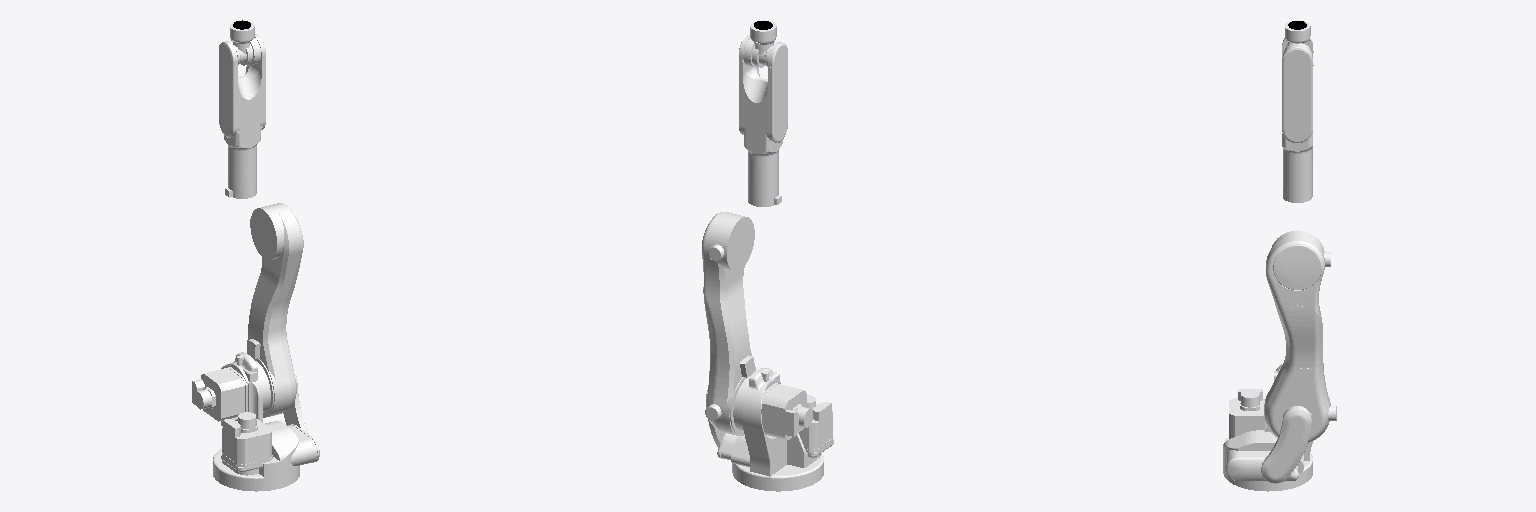
The robot description file, URDF, robot "khi_rs030n":
<?xml version="1.0" ?>
<!-- =================================================================================== -->
<!-- |    This document was autogenerated by xacro from [local-path]/shared/catkin_ws/src/khi_robot/khi_rs_description/urdf/rs030n.urdf.xacro | -->
<!-- |    EDITING THIS FILE BY HAND IS NOT RECOMMENDED                                 | -->
<!-- =================================================================================== -->
<robot name="khi_rs030n">
    <transmission name="$join1_trans">
        <type>transmission_interface/SimpleTransmission</type>
        <actuator name="joint1_motor">
            <hardwareInterface>hardware_interface/PositionJointInterface</hardwareInterface>
            <mechanicalReduction>1</mechanicalReduction>
        </actuator>
        <joint name="joint1">
            <hardwareInterface>hardware_interface/PositionJointInterface</hardwareInterface>
        </joint>
    </transmission>
    <transmission name="$join2_trans">
        <type>transmission_interface/SimpleTransmission</type>
        <actuator name="joint2_motor">
            <hardwareInterface>hardware_interface/PositionJointInterface</hardwareInterface>
            <mechanicalReduction>1</mechanicalReduction>
        </actuator>
        <joint name="joint2">
            <hardwareInterface>hardware_interface/PositionJointInterface</hardwareInterface>
        </joint>
    </transmission>
    <transmission name="$join3_trans">
        <type>transmission_interface/SimpleTransmission</type>
        <actuator name="joint3_motor">
            <hardwareInterface>hardware_interface/PositionJointInterface</hardwareInterface>
            <mechanicalReduction>1</mechanicalReduction>
        </actuator>
        <joint name="joint3">
            <hardwareInterface>hardware_interface/PositionJointInterface</hardwareInterface>
        </joint>
    </transmission>
    <transmission name="$join4_trans">
        <type>transmission_interface/SimpleTransmission</type>
        <actuator name="joint4_motor">
            <hardwareInterface>hardware_interface/PositionJointInterface</hardwareInterface>
            <mechanicalReduction>1</mechanicalReduction>
        </actuator>
        <joint name="joint4">
            <hardwareInterface>hardware_interface/PositionJointInterface</hardwareInterface>
        </joint>
    </transmission>
    <transmission name="$join5_trans">
        <type>transmission_interface/SimpleTransmission</type>
        <actuator name="joint5_motor">
            <hardwareInterface>hardware_interface/PositionJointInterface</hardwareInterface>
            <mechanicalReduction>1</mechanicalReduction>
        </actuator>
        <joint name="joint5">
            <hardwareInterface>hardware_interface/PositionJointInterface</hardwareInterface>
        </joint>
    </transmission>
    <transmission name="$join6_trans">
        <type>transmission_interface/SimpleTransmission</type>
        <actuator name="joint6_motor">
            <hardwareInterface>hardware_interface/PositionJointInterface</hardwareInterface>
            <mechanicalReduction>1</mechanicalReduction>
        </actuator>
        <joint name="joint6">
            <hardwareInterface>hardware_interface/PositionJointInterface</hardwareInterface>
        </joint>
    </transmission>
    <!-- gazebo plugin -->
    <gazebo>
        <plugin filename="libgazebo_ros_control.so" name="gazebo_ros_control">
            <robotNamespace>/</robotNamespace>
        </plugin>
        <!--
    <plugin name="gazebo_ros_power_monitor_controller" filename="libgazebo_ros_power_monitor.so">
      <alwaysOn>true</alwaysOn>
      <updateRate>1.0</updateRate>
      <timeout>5</timeout>
      <powerStateTopic>power_state</powerStateTopic>
      <powerStateRate>10.0</powerStateRate>
      <fullChargeCapacity>87.78</fullChargeCapacity>     
      <dischargeRate>-474</dischargeRate>
      <chargeRate>525</chargeRate>
      <dischargeVoltage>15.52</dischargeVoltage>
      <chargeVoltage>16.41</chargeVoltage>
    </plugin>
-->
    </gazebo>
    <!-- link rviz colors -->
    <material name="White">
        <color rgba="1 1 1 1" />
    </material>
    <material name="Black">
        <color rgba="0 0 0 1" />
    </material>
    <!-- rs030n start -->
    <!-- Link 0 -->
    <link name="base_link">
        <visual>
            <geometry>
                <mesh filename="package://khi_rs_description/meshes/RS030N_J0.stl" />
            </geometry>
            <material name="White" />
            <origin rpy="0 0 0" xyz="0 0 0" />
        </visual>
        <collision>
            <geometry>
                <mesh filename="package://khi_rs_description/meshes/RS030N_J0.stl" />
            </geometry>
            <material name="White" />
            <origin rpy="0 0 0" xyz="0 0 0" />
        </collision>
        <inertial>
            <mass value="177.752" />
            <inertia ixx="1.0" ixy="0.0" ixz="0.0" iyy="1.0" iyz="0.0" izz="1.0" />
            <origin xyz="0 0 0" rpy="0 0 0" />
        </inertial>
    </link>
    <!-- Link 1 -->
    <joint name="joint1" type="revolute">
        <axis rpy="0 0 0" xyz="0 0 -1" />
        <limit effort="1000.0" lower="-3.141592653589793" upper="3.141592653589793" velocity="3.141592653589793" />
        <origin rpy="0 0 0" xyz="0 0 0.68" />
        <parent link="base_link" />
        <child link="link1" />
        <dynamics damping="0.0" friction="0.0" />
    </joint>
    <link name="link1">
        <visual>
            <geometry>
                <mesh filename="package://khi_rs_description/meshes/RS030N_J1.stl" />
            </geometry>
            <material name="White" />
            <origin rpy="0 0 0" xyz="0 0 0" />
        </visual>
        <collision>
            <geometry>
                <mesh filename="package://khi_rs_description/meshes/RS030N_J1.stl" />
            </geometry>
            <material name="White" />
            <origin rpy="0 0 0" xyz="0 0 0" />
        </collision>
        <inertial>
            <mass value="216.15" />
            <inertia ixx="1.0" ixy="0.0" ixz="0.0" iyy="1.0" iyz="0.0" izz="1.0" />
            <origin xyz="0 0 0" rpy="0 0 0" />
        </inertial>
    </link>
    <!-- Link 2 -->
    <joint name="joint2" type="revolute">
        <axis rpy="0 0 0" xyz="0 0 1" />
        <limit effort="1000.0" lower="-1.8325957145940461" upper="2.443460952792061" velocity="3.141592653589793" />
        <origin rpy="0 -1.5707963267948966 0" xyz="0 0.15 0" />
        <parent link="link1" />
        <child link="link2" />
        <dynamics damping="0.0" friction="0.0" />
    </joint>
    <link name="link2">
        <visual>
            <geometry>
                <mesh filename="package://khi_rs_description/meshes/RS030N_J2.stl" />
            </geometry>
            <material name="White" />
            <origin rpy="0 1.5707963267948966 0" xyz="0 0 0" />
        </visual>
        <collision>
            <geometry>
                <mesh filename="package://khi_rs_description/meshes/RS030N_J2.stl" />
            </geometry>
            <material name="White" />
            <origin rpy="0 1.5707963267948966 0" xyz="0 0 0" />
        </collision>
        <inertial>
            <mass value="70.847" />
            <inertia ixx="1.0" ixy="0.0" ixz="0.0" iyy="1.0" iyz="0.0" izz="1.0" />
            <origin xyz="0 0 0" rpy="0 0 0" />
        </inertial>
    </link>
    <!-- Link 3 -->
    <joint name="joint3" type="revolute">
        <axis rpy="0 0 0" xyz="0 0 -1" />
        <limit effort="1000.0" lower="-2.705260340591211" upper="2.356194490192345" velocity="3.2288591161895095" />
        <origin rpy="0 0 0" xyz="0.87 0 0" />
        <parent link="link2" />
        <child link="link3" />
        <dynamics damping="0.0" friction="0.0" />
    </joint>
    <link name="link3">
        <visual>
            <geometry>
                <mesh filename="package://khi_rs_description/meshes/RS030N_J3.stl" />
            </geometry>
            <material name="White" />
            <origin rpy="0 1.5707963267948966 0" xyz="0 0 0" />
        </visual>
        <collision>
            <geometry>
                <mesh filename="package://khi_rs_description/meshes/RS030N_J3.stl" />
            </geometry>
            <material name="White" />
            <origin rpy="0 1.5707963267948966 0" xyz="0 0 0" />
        </collision>
        <inertial>
            <mass value="51.71" />
            <inertia ixx="1.0" ixy="0.0" ixz="0.0" iyy="1.0" iyz="0.0" izz="1.0" />
            <origin xyz="0 0 0" rpy="0 0 0" />
        </inertial>
    </link>
    <!-- Link 4 -->
    <joint name="joint4" type="revolute">
        <axis rpy="0 0 0" xyz="0 0 1" />
        <limit effort="1000.0" lower="-6.283185307179586" upper="6.283185307179586" velocity="4.537856055185257" />
        <origin rpy="0 1.5707963267948966 0" xyz="0.267 0 0" />
        <parent link="link3" />
        <child link="link4" />
        <dynamics damping="0.0" friction="0.0" />
    </joint>
    <link name="link4">
        <visual>
            <geometry>
                <mesh filename="package://khi_rs_description/meshes/RS030N_J4.stl" />
            </geometry>
            <material name="White" />
            <origin rpy="0 0 0" xyz="0 0 0.813" />
        </visual>
        <collision>
            <geometry>
                <mesh filename="package://khi_rs_description/meshes/RS030N_J4.stl" />
            </geometry>
            <material name="White" />
            <origin rpy="0 0 0" xyz="0 0 0.813" />
        </collision>
        <inertial>
            <mass value="31.675" />
            <inertia ixx="1.0" ixy="0.0" ixz="0.0" iyy="1.0" iyz="0.0" izz="1.0" />
            <origin xyz="0 0 0" rpy="0 0 0" />
        </inertial>
    </link>
    <!-- Link 5 -->
    <joint name="joint5" type="revolute">
        <axis rpy="0 0 0" xyz="0 0 -1" />
        <limit effort="1000.0" lower="-2.530727415391778" upper="2.530727415391778" velocity="4.537856055185257" />
        <origin rpy="0 -1.5707963267948966 0" xyz="0 0 0.813" />
        <parent link="link4" />
        <child link="link5" />
        <dynamics damping="0.0" friction="0.0" />
    </joint>
    <link name="link5">
        <visual>
            <geometry>
                <mesh filename="package://khi_rs_description/meshes/RS030N_J5.stl" />
            </geometry>
            <material name="White" />
            <origin rpy="0 1.5707963267948966 0" xyz="0 0 0" />
        </visual>
        <collision>
            <geometry>
                <mesh filename="package://khi_rs_description/meshes/RS030N_J5.stl" />
            </geometry>
            <material name="White" />
            <origin rpy="0 1.5707963267948966 0" xyz="0 0 0" />
        </collision>
        <inertial>
            <mass value="6.866" />
            <inertia ixx="1.0" ixy="0.0" ixz="0.0" iyy="1.0" iyz="0.0" izz="1.0" />
            <origin xyz="0 0 0" rpy="0 0 0" />
        </inertial>
    </link>
    <!-- Link 6 -->
    <joint name="joint6" type="revolute">
        <axis rpy="0 0 0" xyz="0 0 1" />
        <limit effort="1000.0" lower="-6.283185307179586" upper="6.283185307179586" velocity="6.283185307179586" />
        <origin rpy="0 1.5707963267948966 0" xyz="0.165 0 0" />
        <parent link="link5" />
        <child link="link6" />
        <dynamics damping="0.0" friction="0.0" />
    </joint>
    <link name="link6">
        <visual>
            <geometry>
                <mesh filename="package://khi_rs_description/meshes/RS030N_J6.stl" />
            </geometry>
            <material name="Black" />
            <origin rpy="0 0 0" xyz="0 0 0" />
        </visual>
        <collision>
            <geometry>
                <mesh filename="package://khi_rs_description/meshes/RS030N_J6.stl" />
            </geometry>
            <material name="Black" />
            <origin rpy="0 0 0" xyz="0 0 0" />
        </collision>
        <inertial>
            <mass value="0.0001" />
            <inertia ixx="1.0" ixy="0.0" ixz="0.0" iyy="1.0" iyz="0.0" izz="1.0" />
            <origin xyz="0 0 0" rpy="0 0 0" />
        </inertial>
    </link>
    <!-- Fix rs030n to world -->
    <link name="world" />
    <joint name="world2base" type="fixed">
        <parent link="world" />
        <child link="base_link" />
        <origin rpy="0 0 0" xyz="0 0 0" />
    </joint>
</robot>

--- What the picture shows (computed from the rendered views, not written in the file) ---
3 views of the same robot in one strip: view 1: azimuth 30°, elevation 25°; view 2: azimuth 150°, elevation 25°; view 3: azimuth 270°, elevation 25° (orthographic).
Model khi_rs030n with 8 links and 7 joints (6 revolute, 1 fixed), rooted at world, posed every joint at zero.
Links seen in each view (by area): view 1: link1, link2, link4, link5; view 2: link1, link2, link4, link5; view 3: link2, link1, link4.
Boxes of the visible links, x1,y1,x2,y2 form: link1: [192, 352, 319, 491]; link2: [247, 203, 303, 417]; link4: [219, 34, 265, 198]; link5: [230, 20, 257, 65]; link1: [706, 368, 833, 491]; link2: [702, 212, 755, 435]; link4: [739, 35, 787, 206]; link5: [747, 20, 776, 67]; link2: [1264, 230, 1336, 442]; link1: [1223, 364, 1312, 491]; link4: [1282, 38, 1313, 202].
Bounding box of the posed robot: 0.567 × 0.58 × 2.55 m (x, y, z).
5 mesh visuals loaded from 7 distinct referenced files (5 binary STL); not drawn: 2 (reference not matched to a file when rendering).